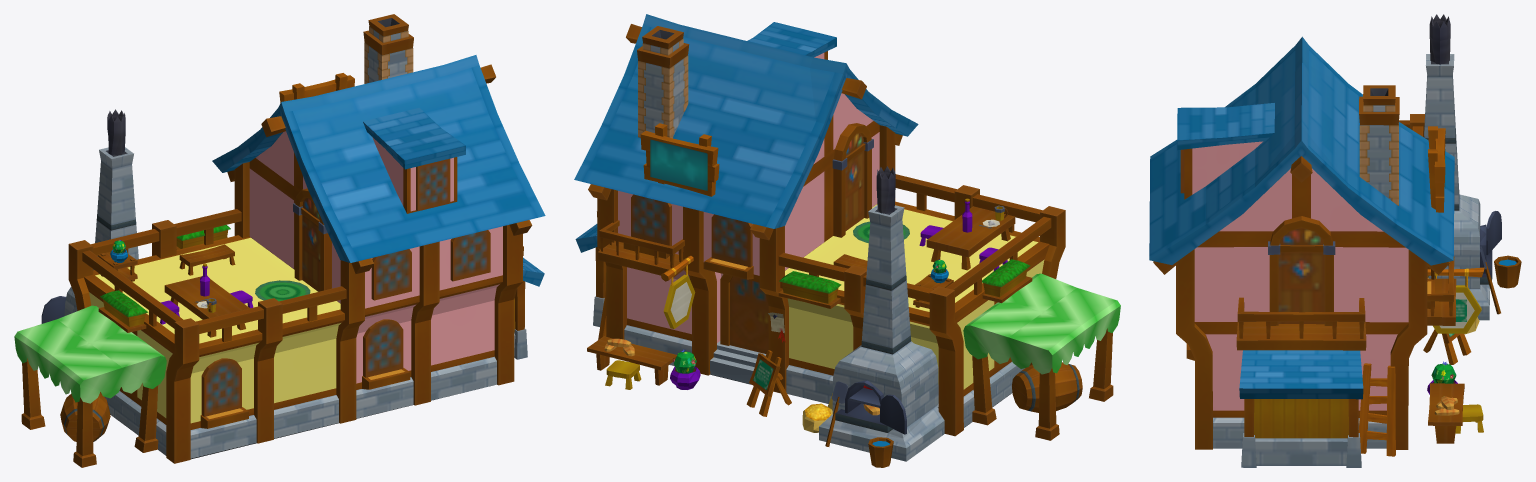
The model's file is HOS0110019.fbx.
3 renders of one model, left to right at view 1: azimuth 30°, elevation 25°; view 2: azimuth 150°, elevation 25°; view 3: azimuth 270°, elevation 25°, orthographic. The views are drawn at different scales.
Visible parts, largest first — view 1: smHOS0110019; view 2: smHOS0110019; view 3: smHOS0110019.
Part boxes in pixels (<box>): smHOS0110019: <box>14,14,545,467</box>; smHOS0110019: <box>574,14,1120,467</box>; smHOS0110019: <box>1149,14,1521,467</box>.
Size of what is drawn, in the model's own units: 1241 by 779 by 781.
1 material, 1 textured.
